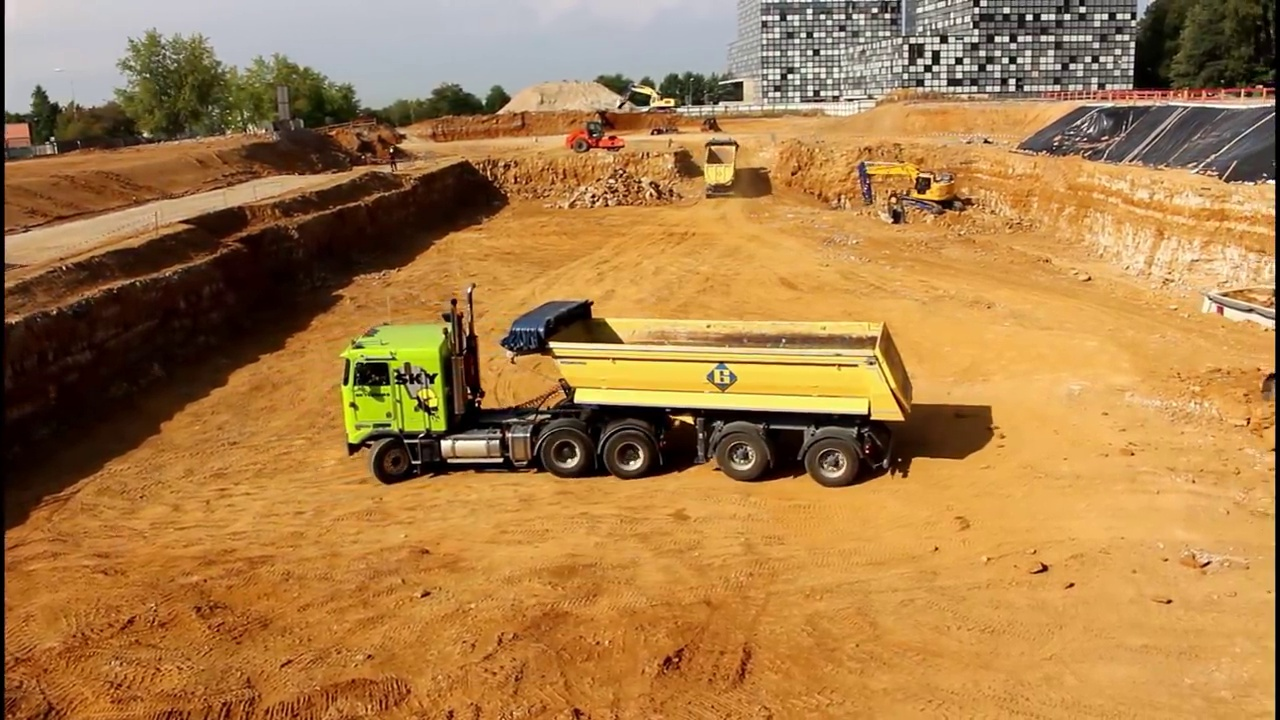compactor: (561, 112, 626, 157)
excavator: (847, 151, 964, 227), (619, 76, 680, 113)
truck: (330, 276, 923, 493), (698, 134, 747, 202)
